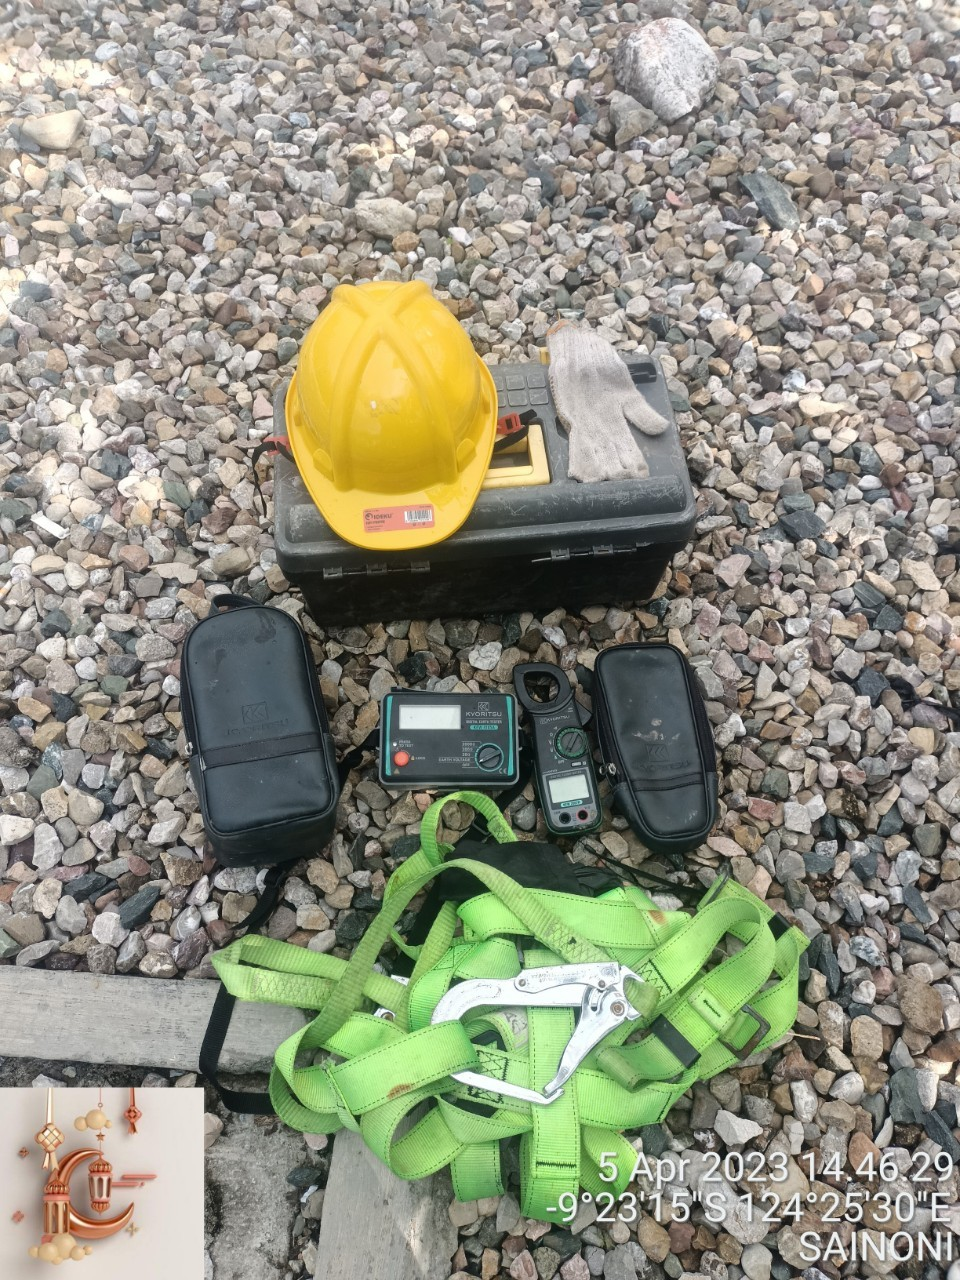HELM: (299, 313, 488, 514)
TAMBANG_SLING: (392, 862, 638, 1188)
